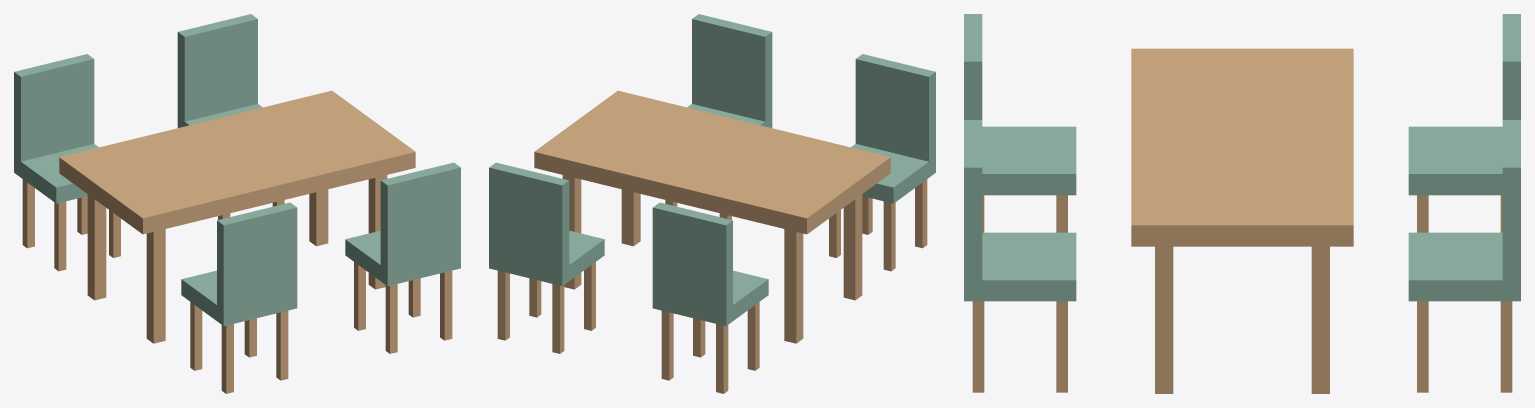
File: dining-set.glb
The picture shows the model from 3 angles, left to right: view 1: azimuth 30°, elevation 25°; view 2: azimuth 150°, elevation 25°; view 3: azimuth 270°, elevation 25°; orthographic projection. The views are drawn at different scales.
Bounding box in the file's own units: 1.6 × 0.965 × 2.13.
